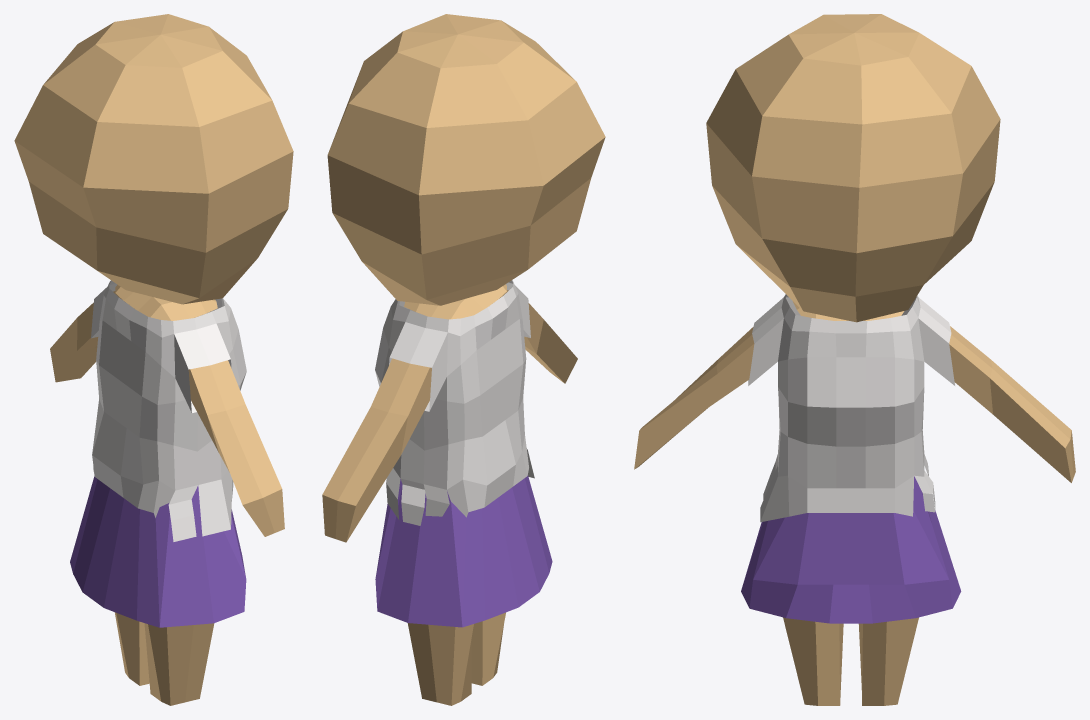
Rendered from Human_girl.fbx.
3 views of the same model, side by side, from view 1: azimuth 30°, elevation 25°; view 2: azimuth 150°, elevation 25°; view 3: azimuth 270°, elevation 25° (orthographic). The views are drawn at different scales.
Visible parts, largest first — view 1: 球體; view 2: 球體; view 3: 球體.
Part boxes in pixels (x1,y1,x2,y2): 球體: (14,14,293,705); 球體: (322,14,605,705); 球體: (634,14,1075,705).
Bounding box in the file's own units: 126 × 337 × 203.
